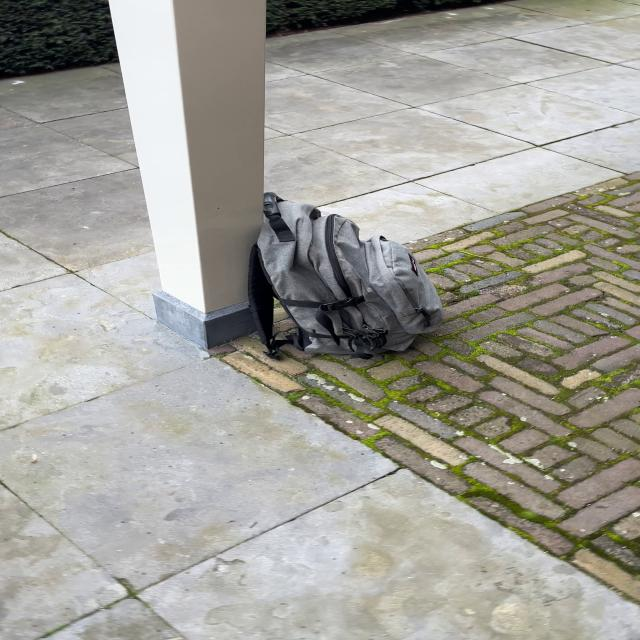backpack: (241, 189, 452, 363)
